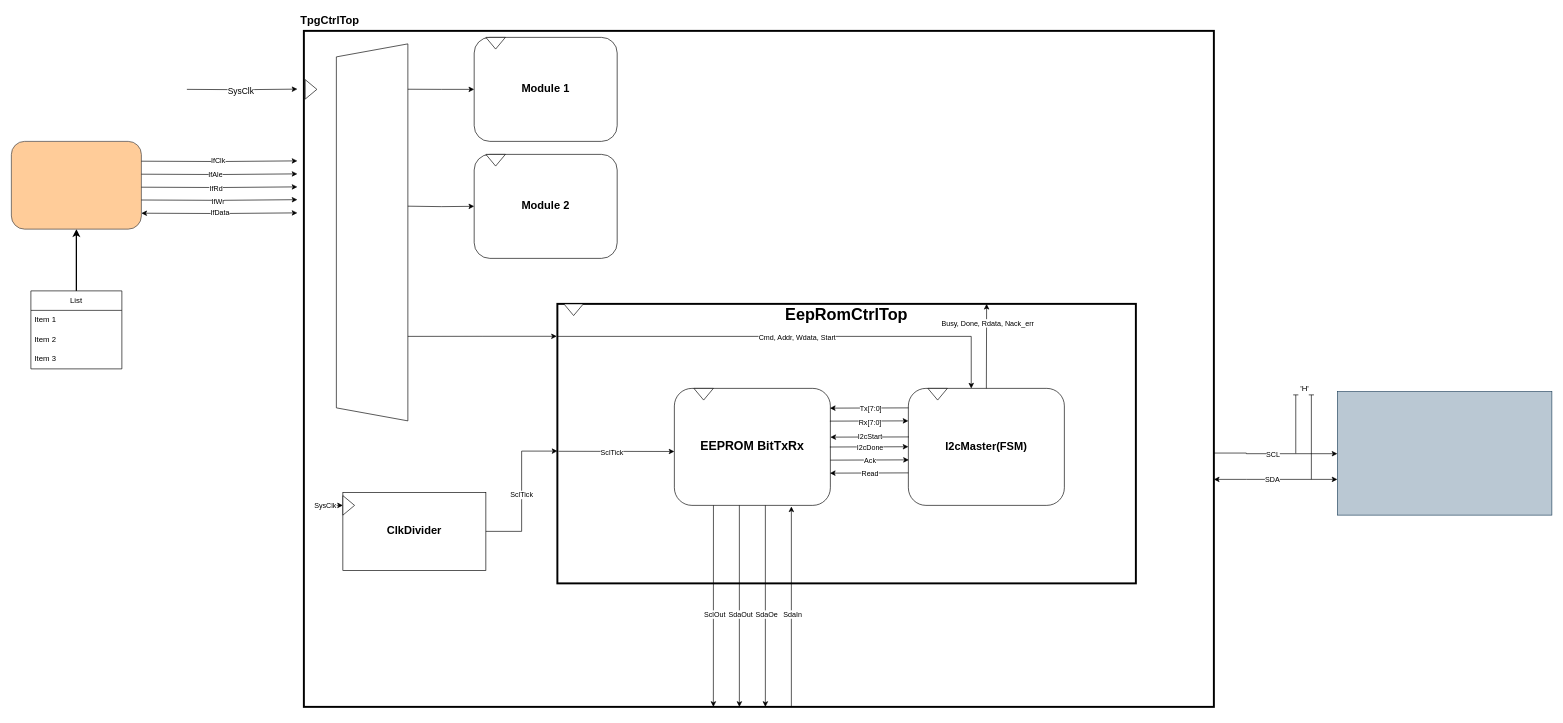
Some shapes in this 1563 by 723 pixel diagram are drawn without their labels. The shapes that lost their labels are listed below. From the top down, each one's centre as x and y in pixels, then its label:
At (76,185): "AP Board".
At (372,232): "DECODE".
At (1444,453): "EEPROM (TB)".
